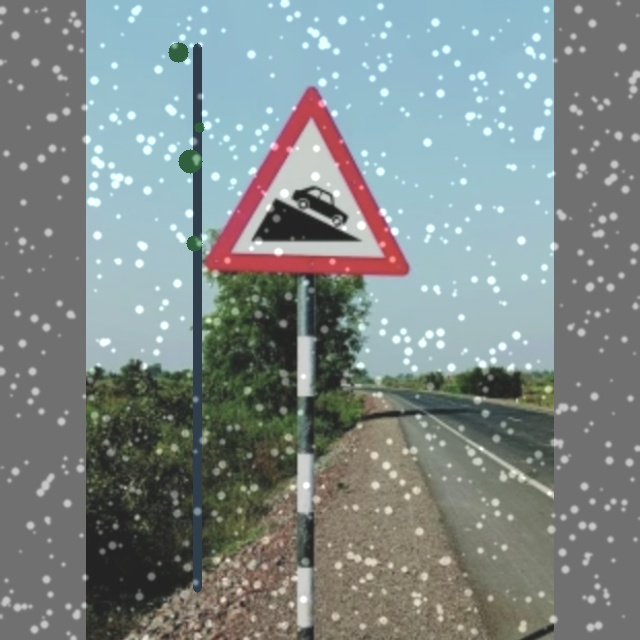Steep_Descent: (217, 85, 413, 276)
